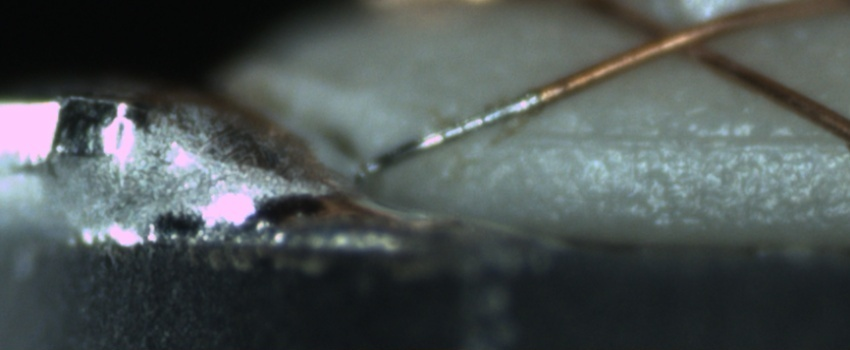CL: (626, 4, 727, 67)
DL: (510, 104, 849, 165)
TS: (359, 88, 545, 180)
TTCW: (364, 70, 582, 169)
